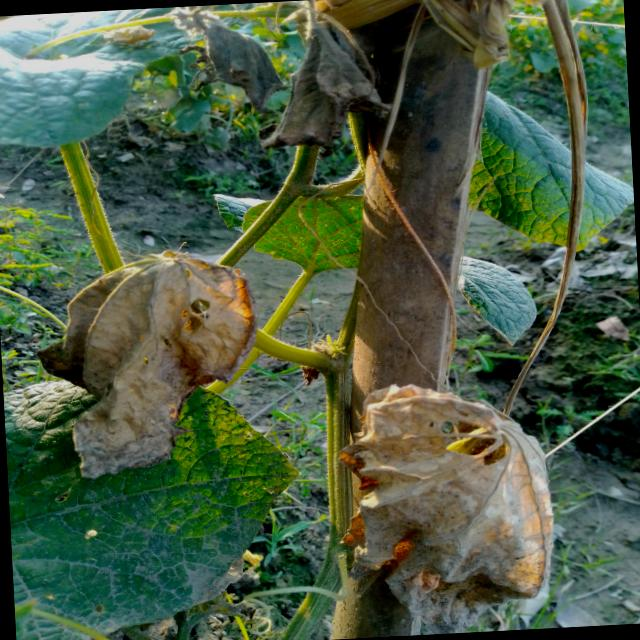cucumber_bacterial: (356, 370, 566, 638), (44, 246, 265, 488), (256, 21, 406, 170), (186, 7, 324, 124)
